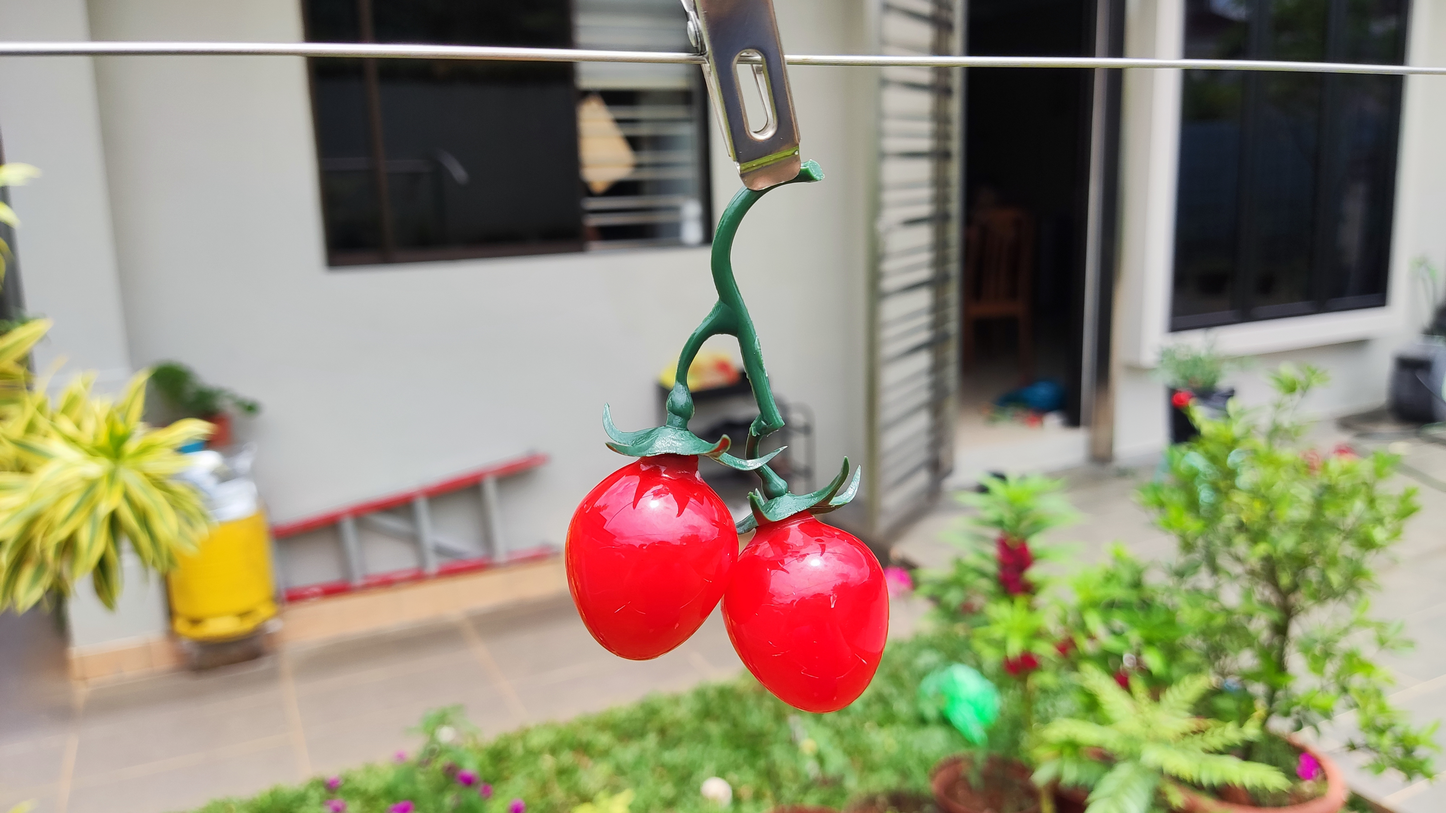peduncle: (711, 186, 757, 296)
strawberry: (565, 452, 738, 660), (722, 511, 890, 713)
